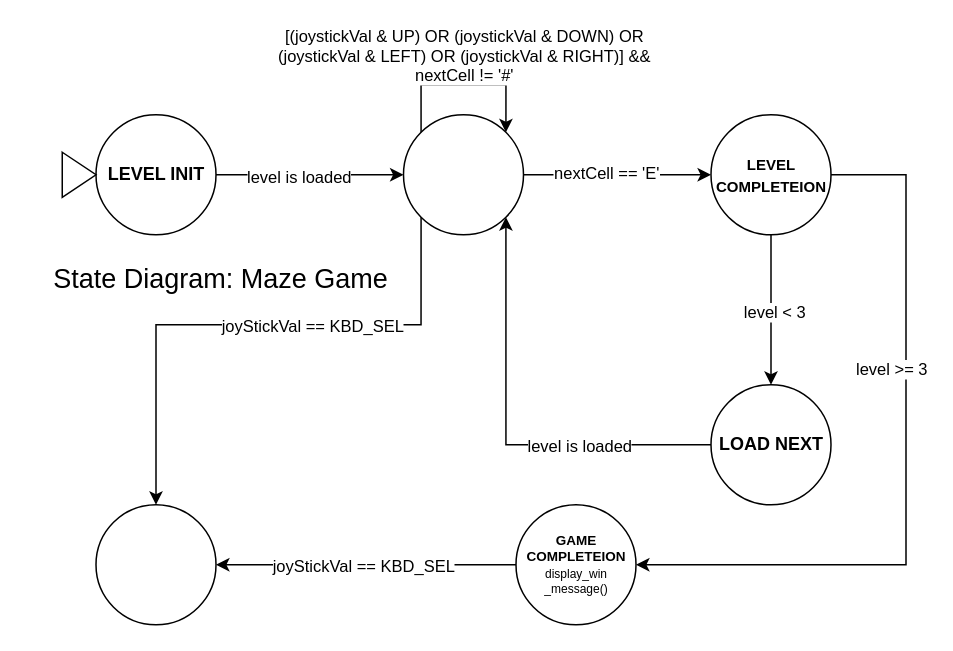
The diagram is 953 pixels wide and 651 high, and some of its shapes have lost their labels. Each missing label, with the centre of its shape:
"EXIT GAME" belongs at point 155,564.
"PLAYER MOVEMENT move_player()" belongs at point 463,174.
